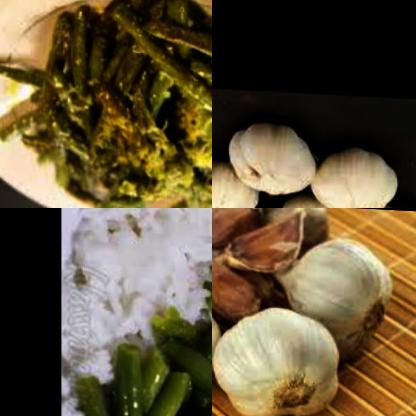fasol: (0, 0, 212, 208), (67, 249, 212, 416)
garlic: (212, 300, 347, 416), (278, 227, 390, 354), (226, 116, 318, 197), (311, 139, 401, 208), (224, 208, 309, 276), (212, 242, 265, 314), (212, 158, 257, 208), (212, 208, 239, 248)
